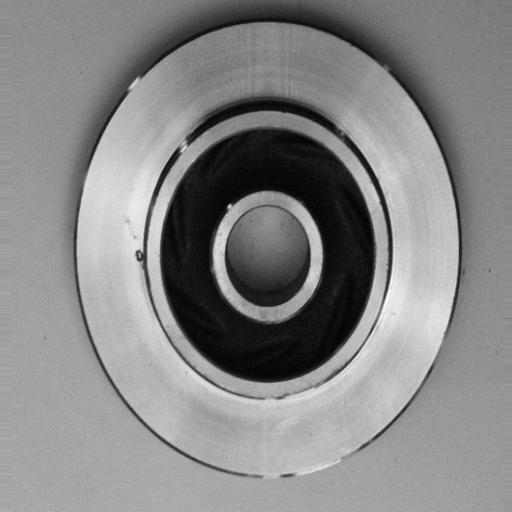crack: (127, 236, 152, 271)
scratch: (247, 371, 335, 409), (165, 126, 201, 164)
unpolished_casting: (70, 16, 465, 482)
